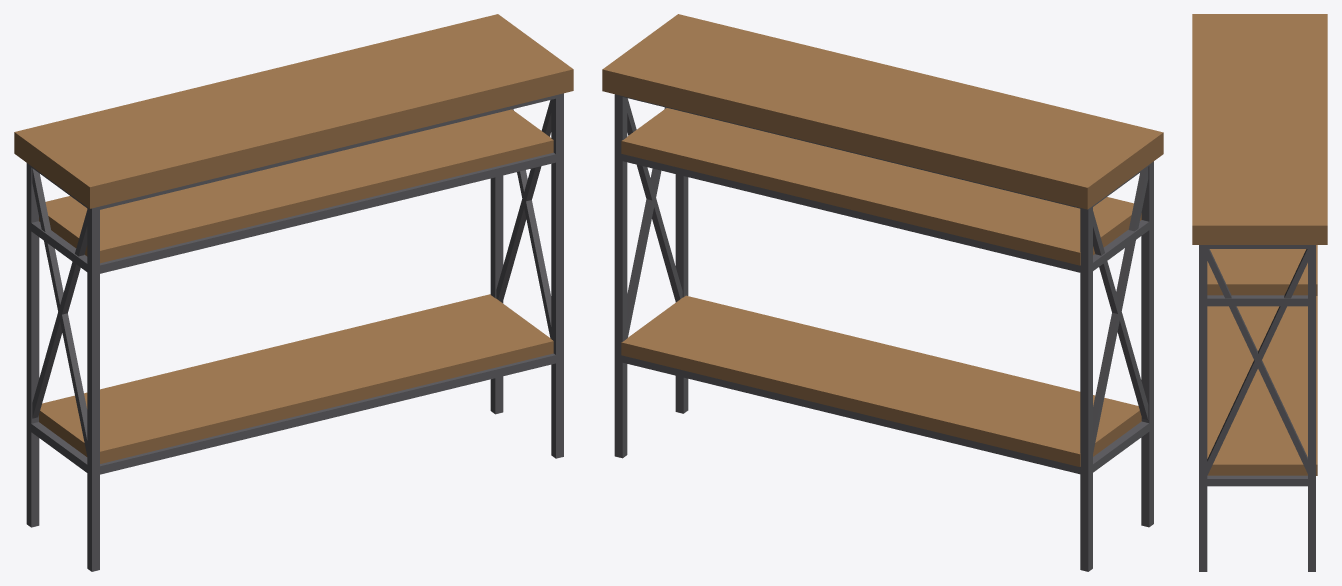
File: Aparador.fbx
3 renders of one model, left to right at view 1: azimuth 30°, elevation 25°; view 2: azimuth 150°, elevation 25°; view 3: azimuth 270°, elevation 25°, orthographic. The views are drawn at different scales.
Visible parts, largest first — view 1: Aparador; view 2: Aparador; view 3: Aparador.
Part boxes in pixels (left/top/right/bottom): Aparador: left=14, top=14, right=573, bottom=571; Aparador: left=602, top=14, right=1163, bottom=571; Aparador: left=1192, top=14, right=1327, bottom=571.
Size of the model in its own units: 85.28 by 65.52 by 23.06.
